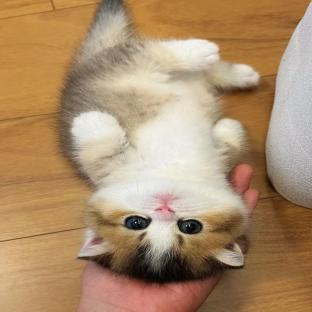Animal: (58, 0, 259, 282)
